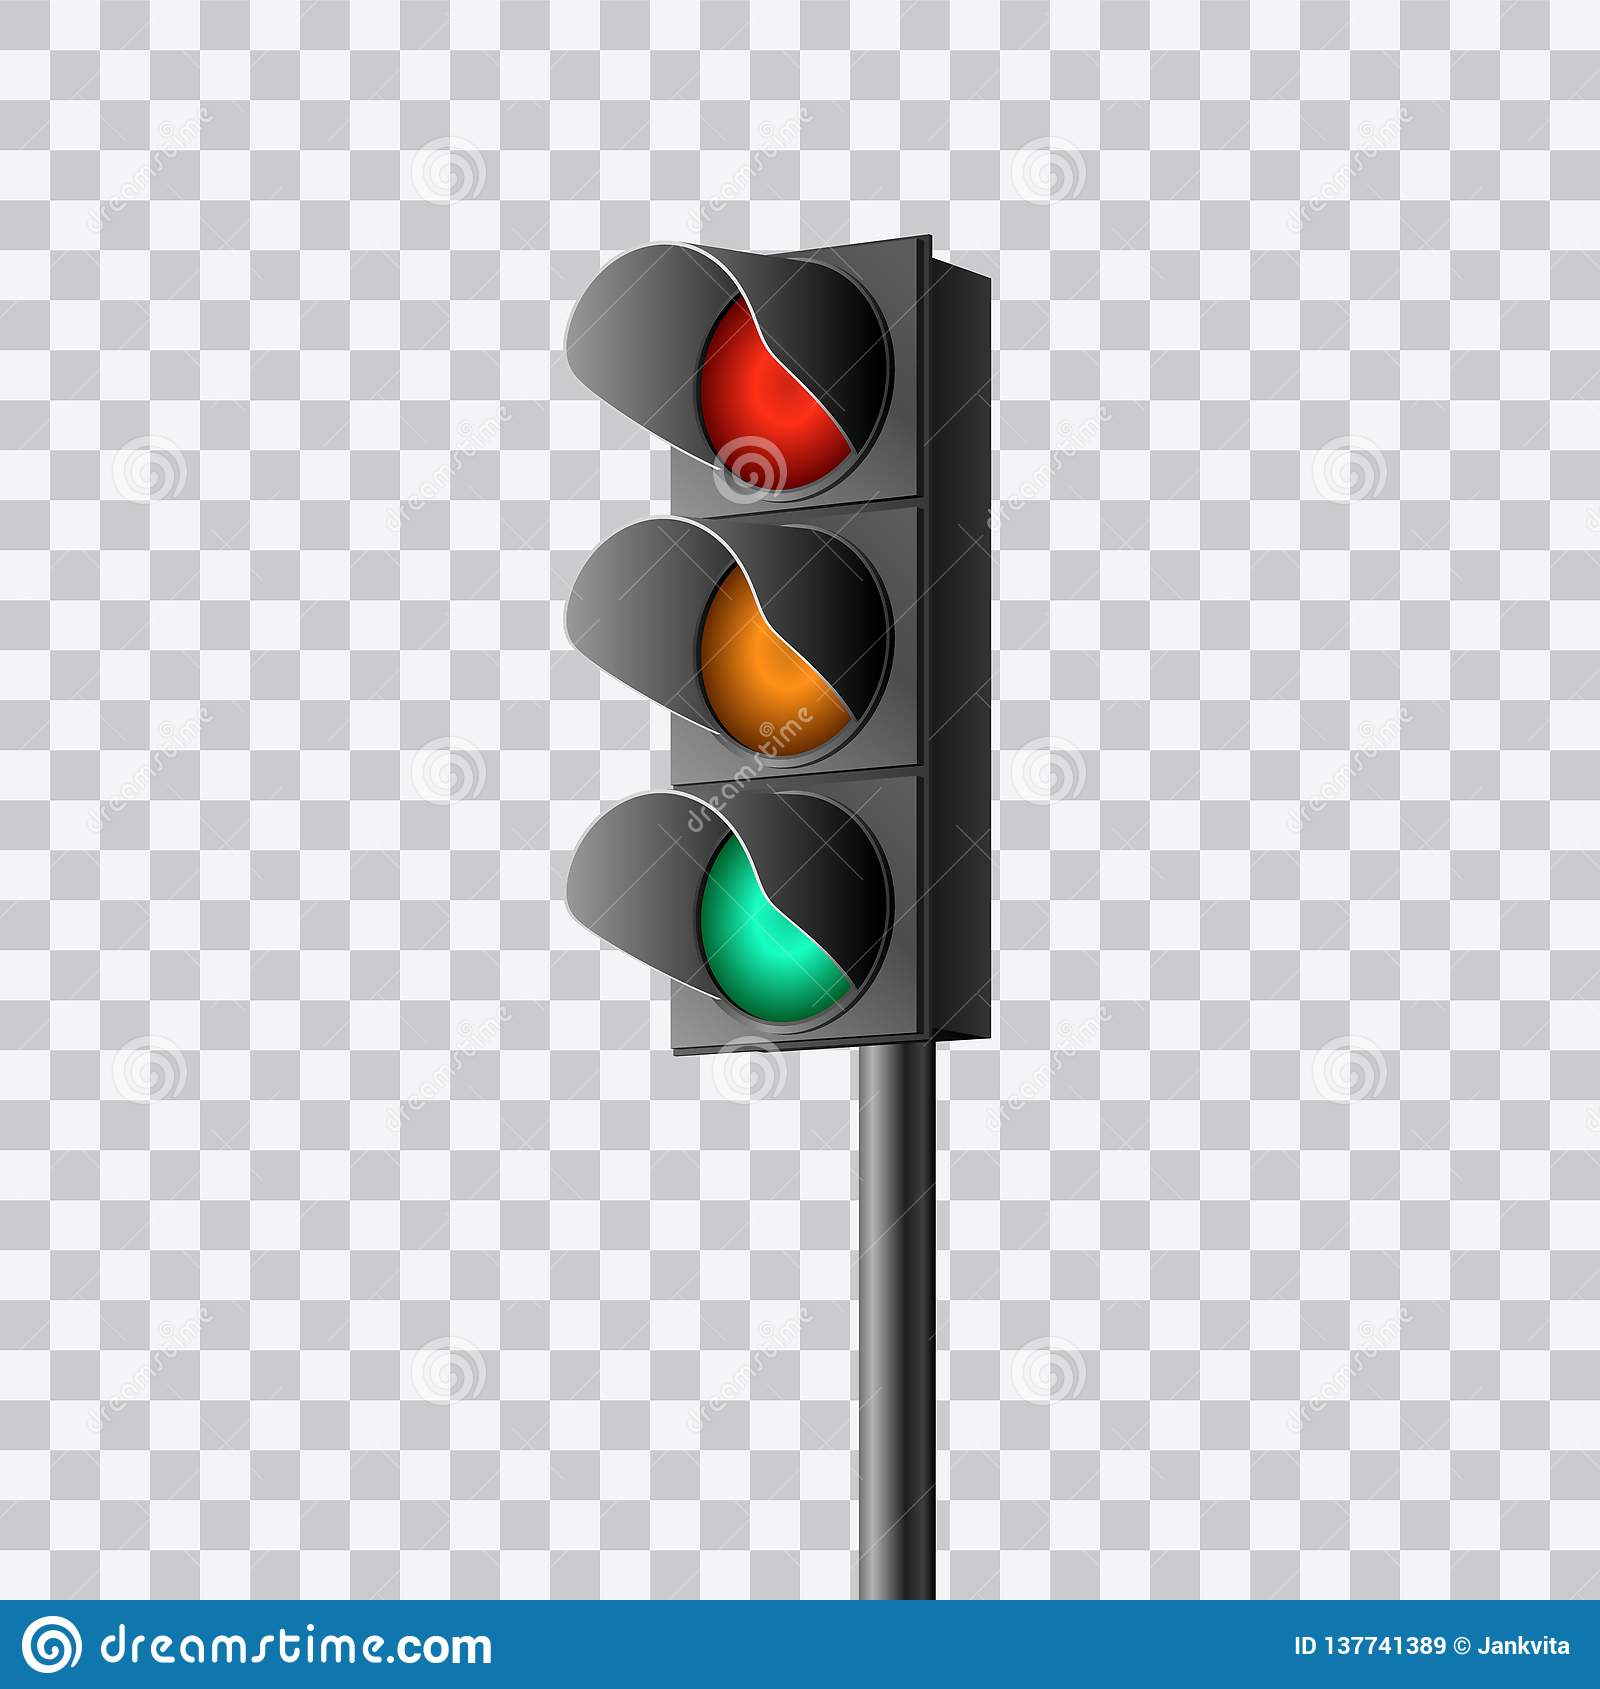trafficLight: (537, 202, 1012, 1071)
